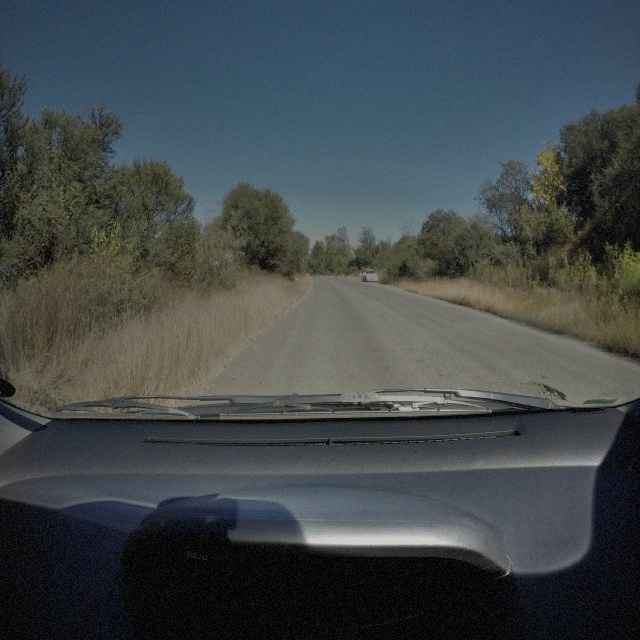pothole: (526, 378, 567, 400)
